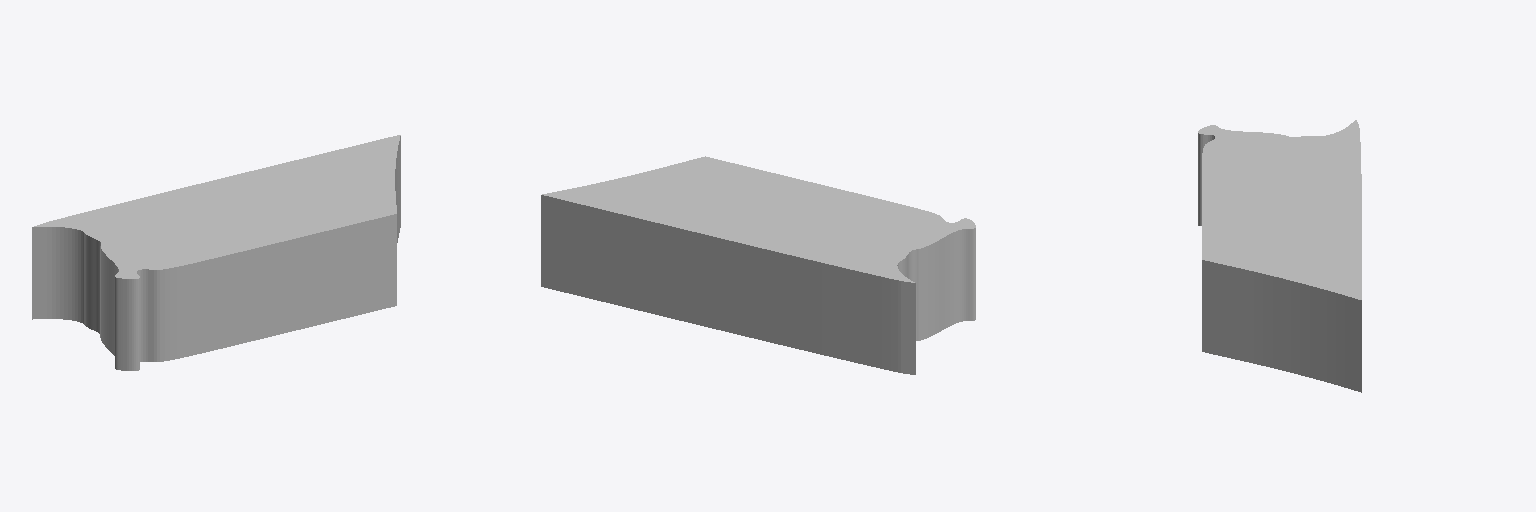
The model's file is North_America_02.obj.
3 views of the same model, side by side, from view 1: azimuth 30°, elevation 25°; view 2: azimuth 150°, elevation 25°; view 3: azimuth 270°, elevation 25° (orthographic).
Visible parts, largest first — view 1: North_America_02_path4194; view 2: North_America_02_path4194; view 3: North_America_02_path4194.
Part boxes in pixels (x1,y1,x2,y2): North_America_02_path4194: (32,135,400,370); North_America_02_path4194: (541,156,975,374); North_America_02_path4194: (1198,120,1361,392).
Bounding box in the file's own units: 0.4225 × 0.1 × 0.1617.